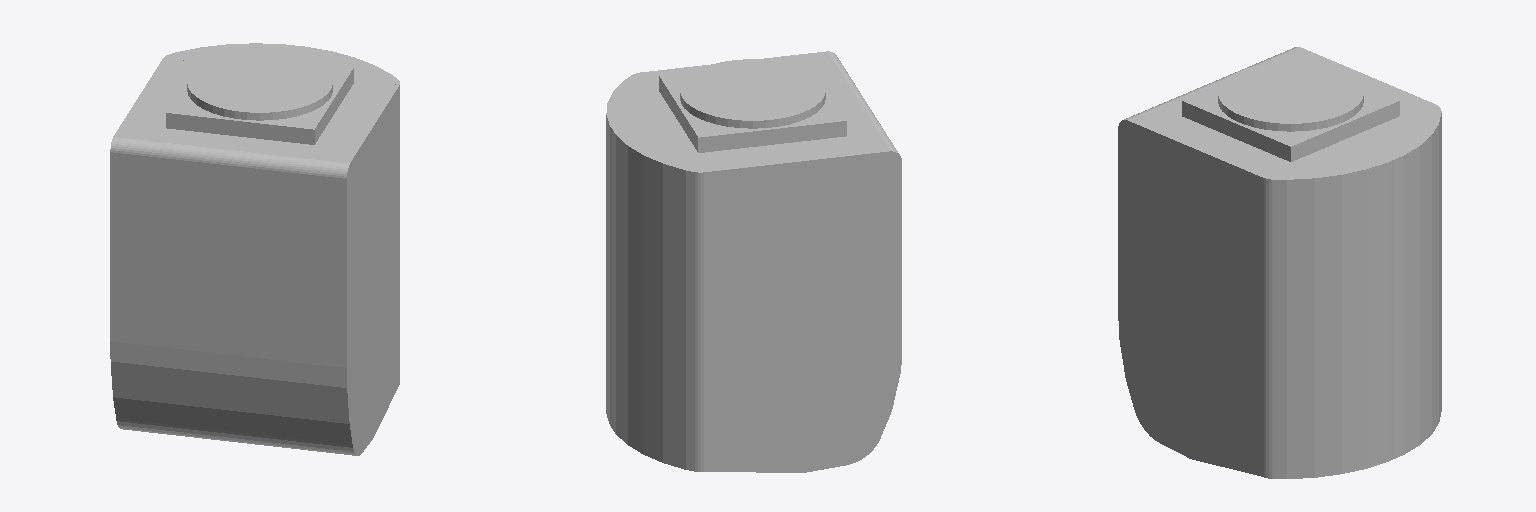
The model's file is stativ_mittelbox_horizontal.obj.
3 views of the same model, side by side, from view 1: azimuth 30°, elevation 25°; view 2: azimuth 150°, elevation 25°; view 3: azimuth 270°, elevation 25° (orthographic).
Parts seen in each view (by area): view 1: Schale-006; view 2: Schale-006; view 3: Schale-006.
Part boxes in pixels (bbox=[...]): Schale-006: bbox=[110, 43, 399, 455]; Schale-006: bbox=[606, 51, 901, 472]; Schale-006: bbox=[1118, 47, 1441, 478].
Size of the model in its own units: 0.3773 by 0.432 by 0.3774.